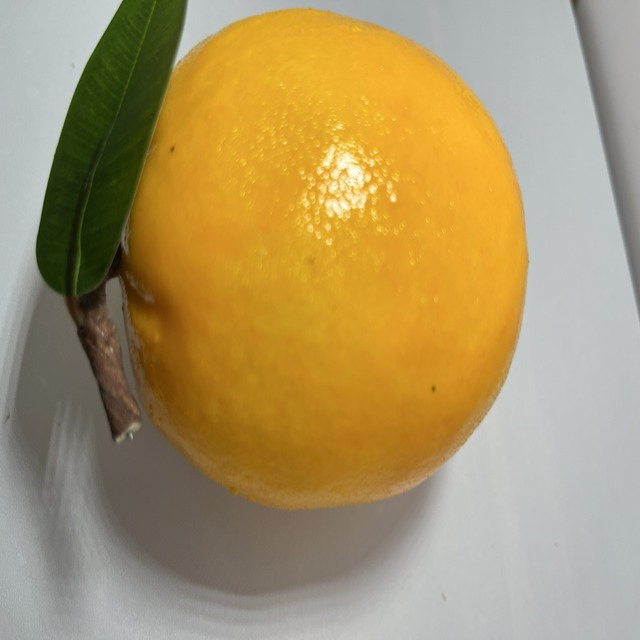Cam vang: (47, 8, 528, 513)
